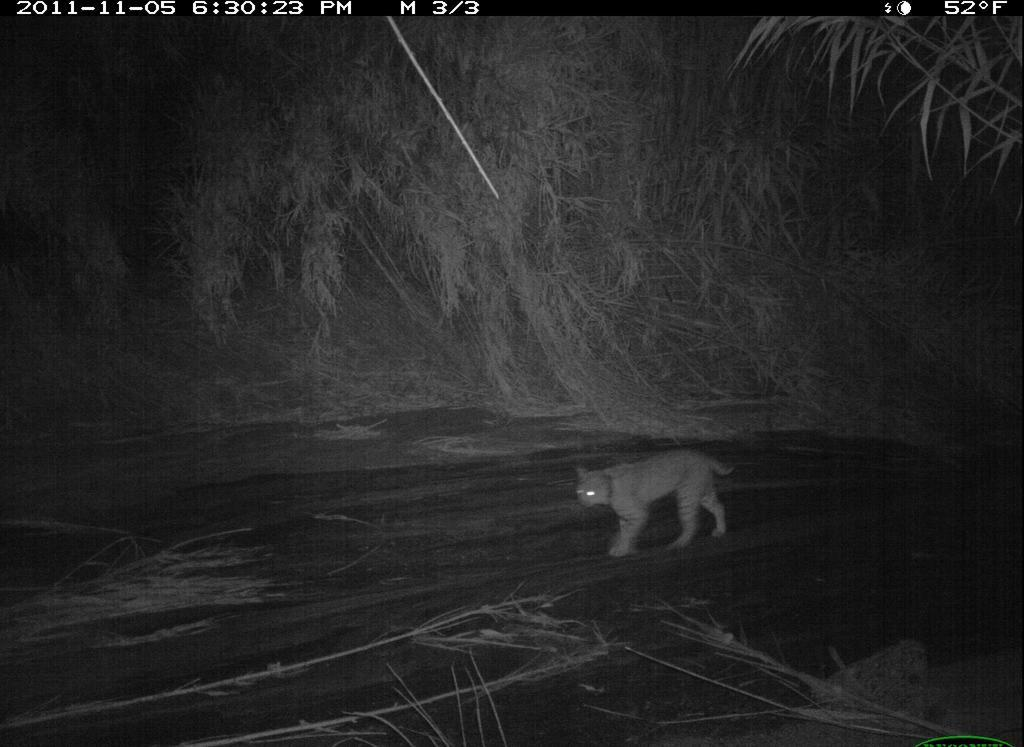bobcat: (568, 445, 748, 566)
